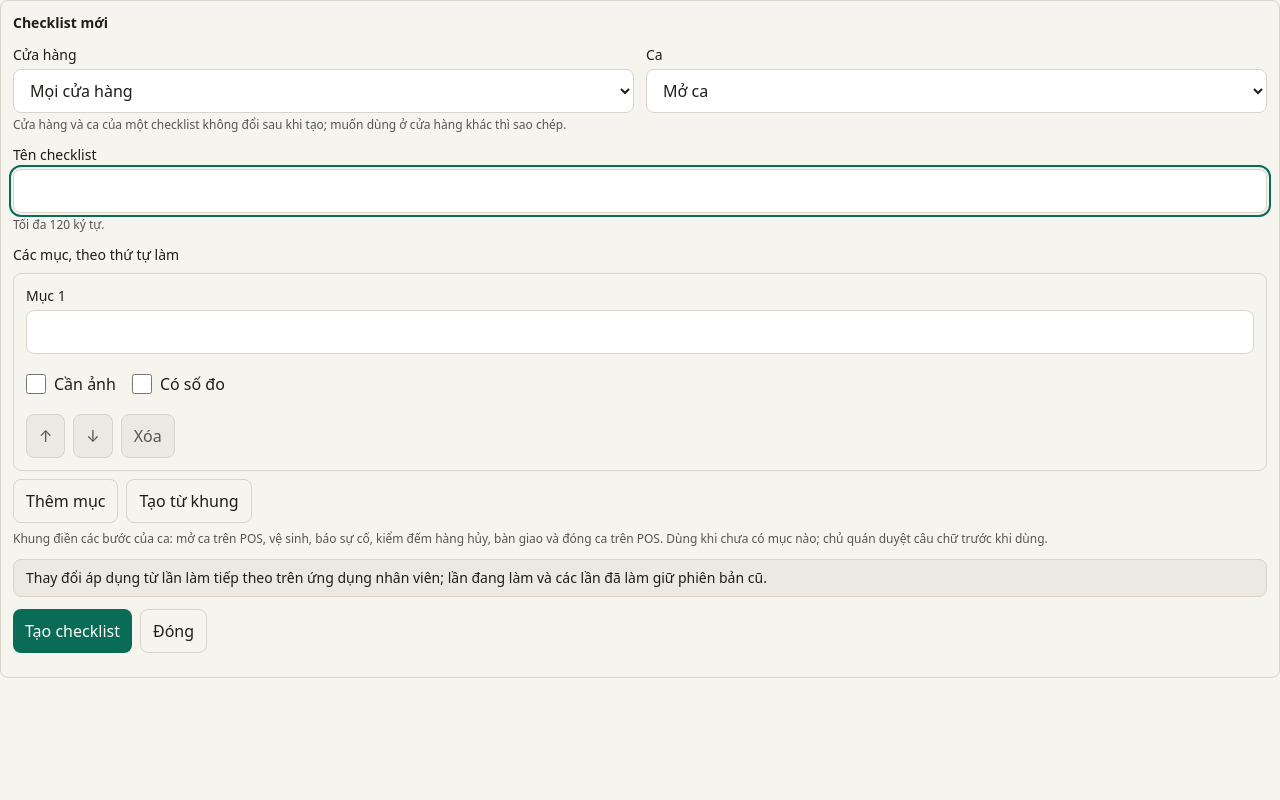
Test: the checklist editor's title check › waits for a typed title before showing its error on blur, so a click right after opening the form lands where it was aimed
Press Tab
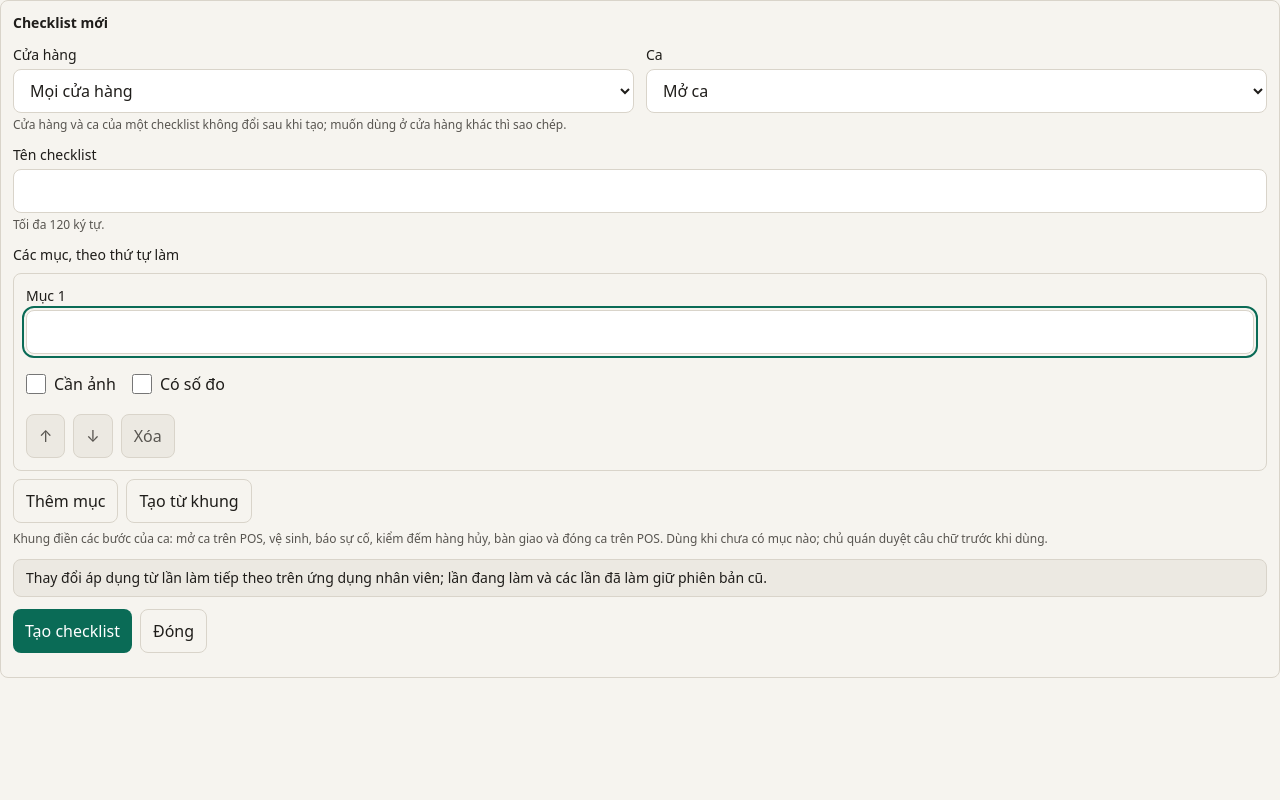
Expected: the text "Nhập tên checklist." is not shown
Type "x" into the field labelled "Tên checklist".
click(640, 191); type("x")  # box [13,169,1267,213]
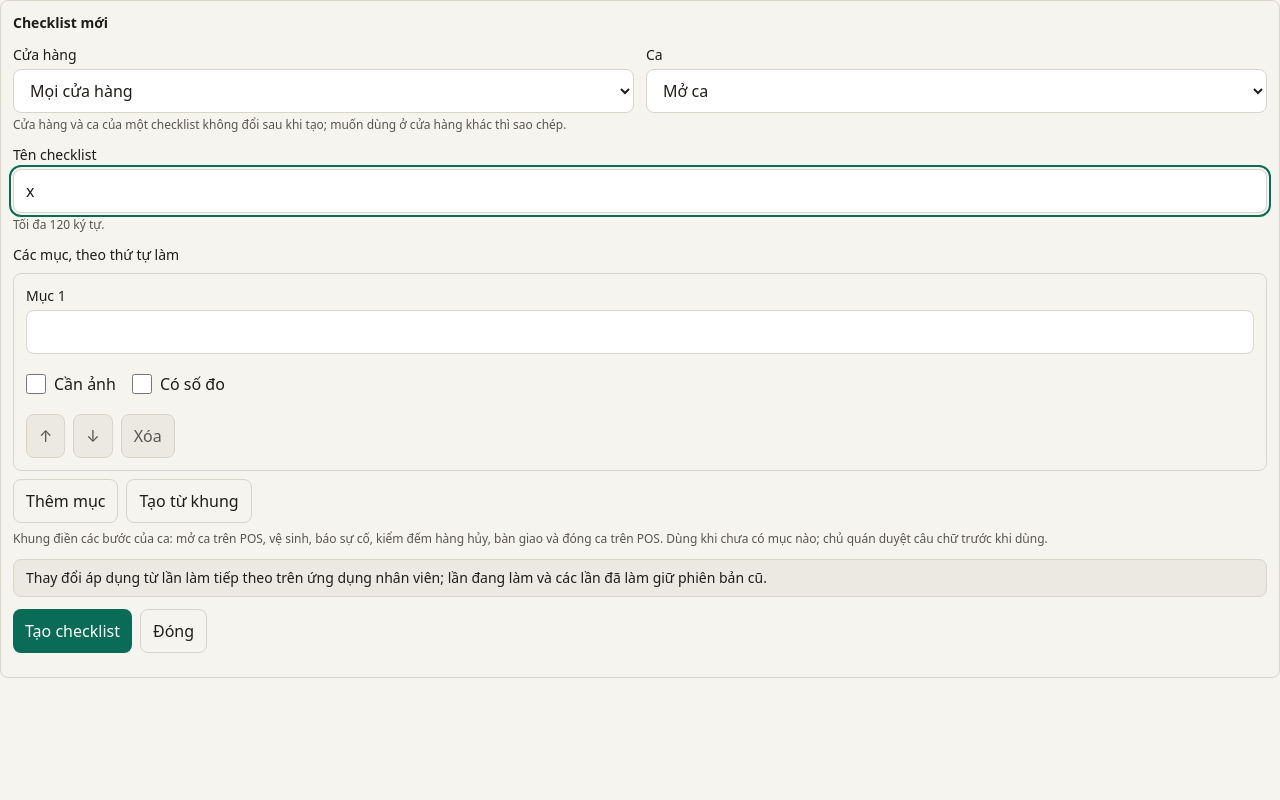
Clear the field labelled "Tên checklist" at (640, 191), box [13,169,1267,213]
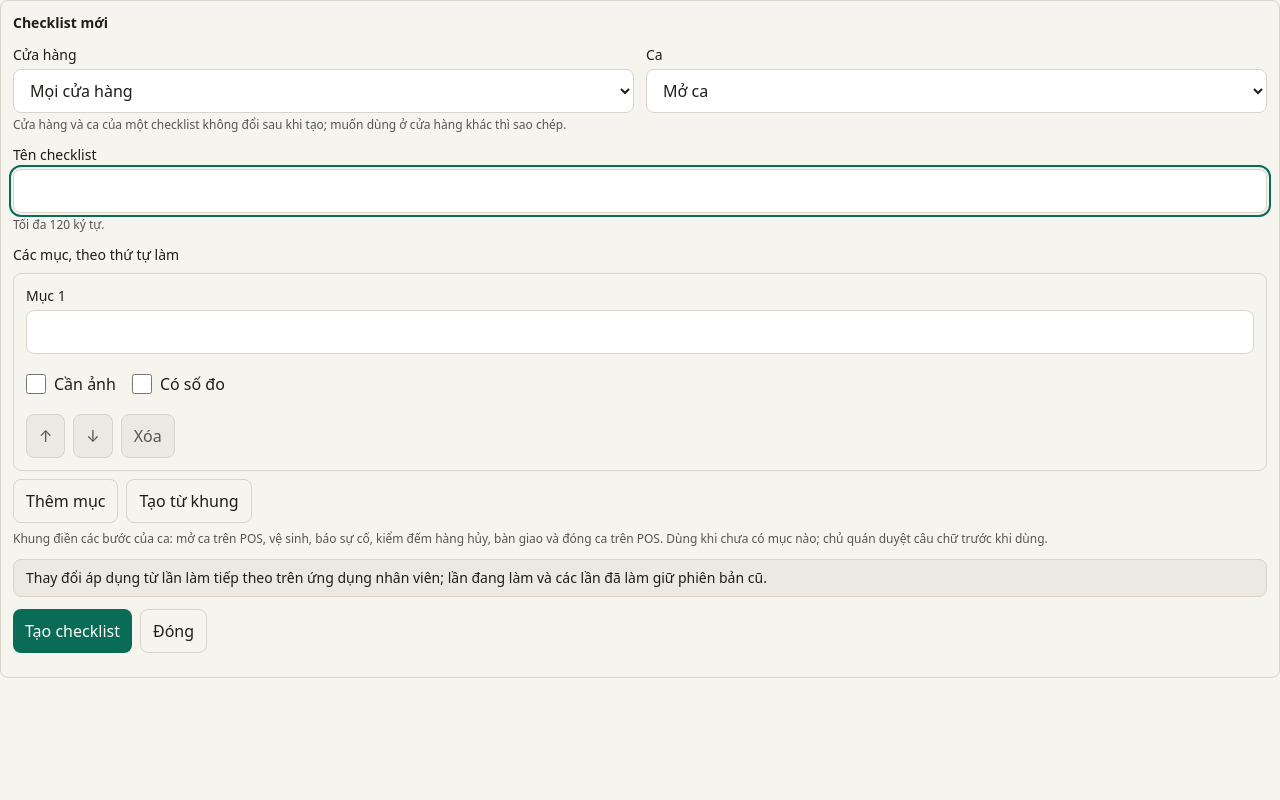
Press Tab
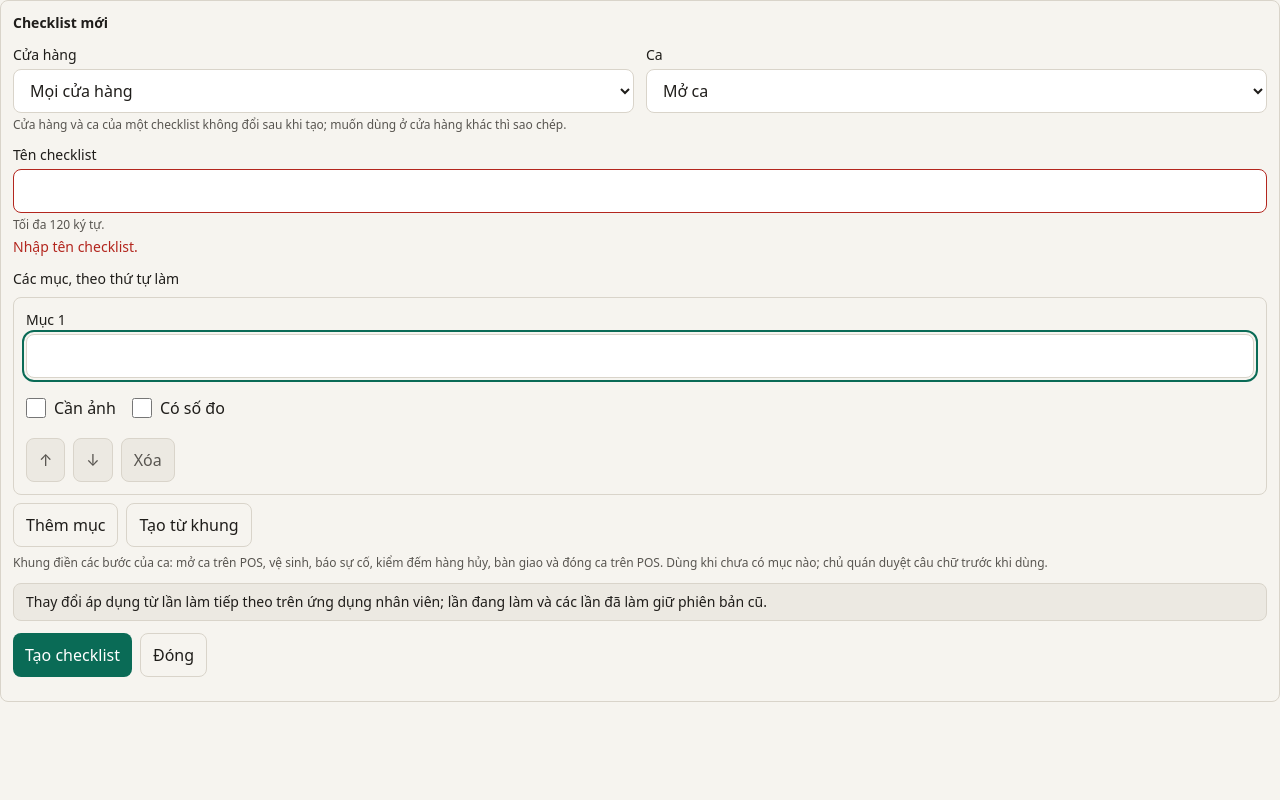
Expected: the text "Nhập tên checklist." is shown, [13,237,138,256]
